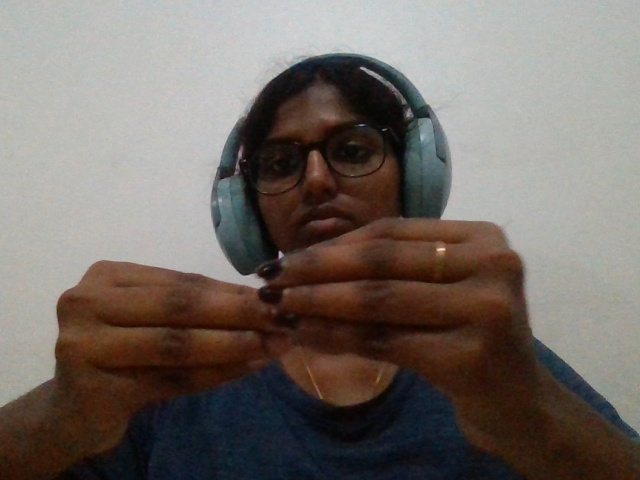More: (7, 204, 592, 478)
